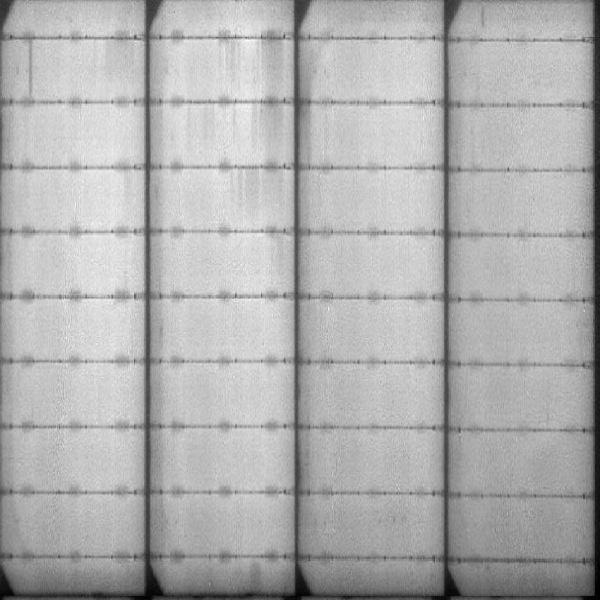scratch: (23, 41, 38, 94)
